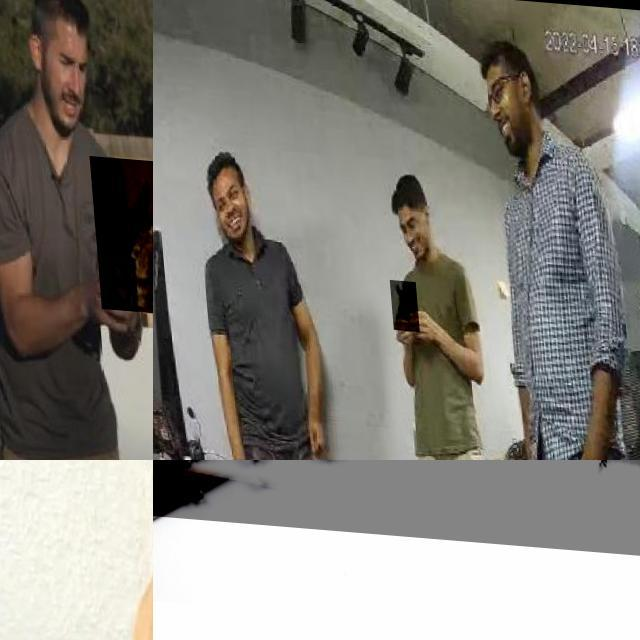-: (85, 149, 153, 307), (385, 275, 414, 327)
gun-knife-thesis - v11 Yolov5 augmented: (153, 460, 640, 609), (0, 508, 85, 640)
